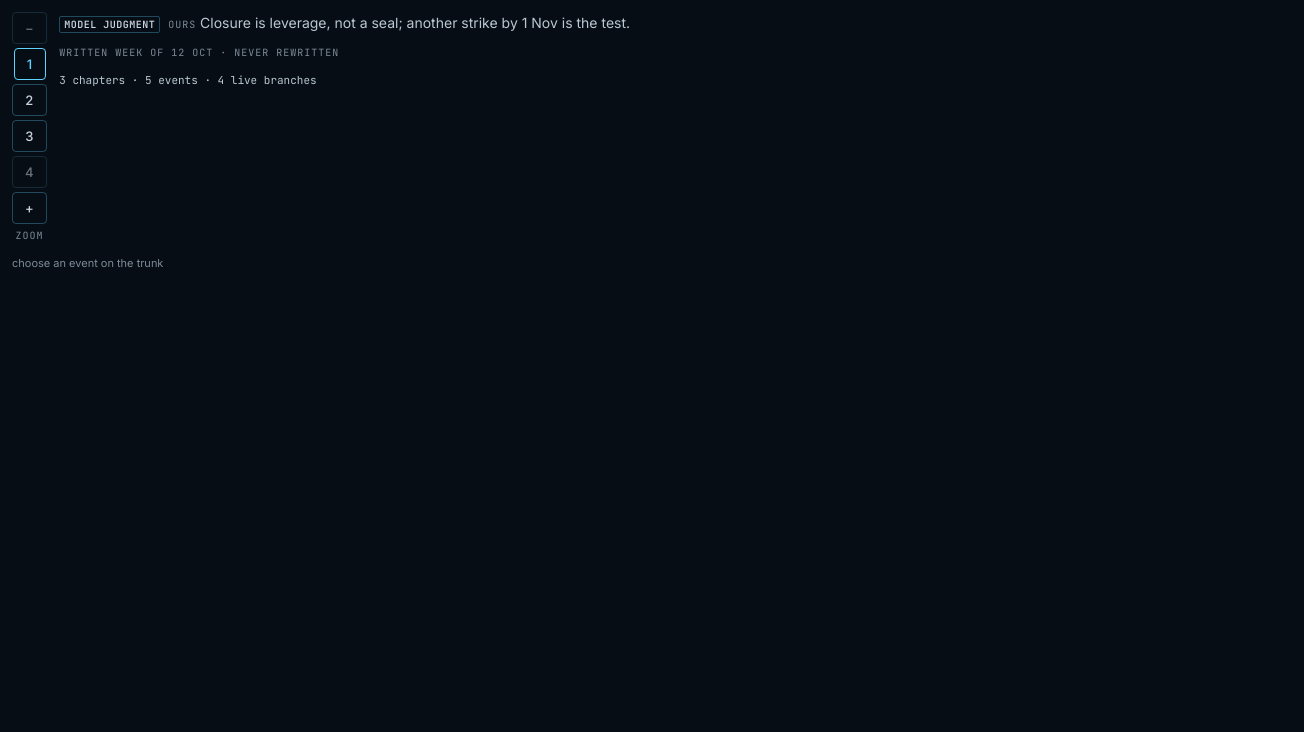
Test: story tree zoom ladder › older history folds into one button that unfolds the drawing
Click the button "3": {"x": 30, "y": 136} [12,120,47,152]
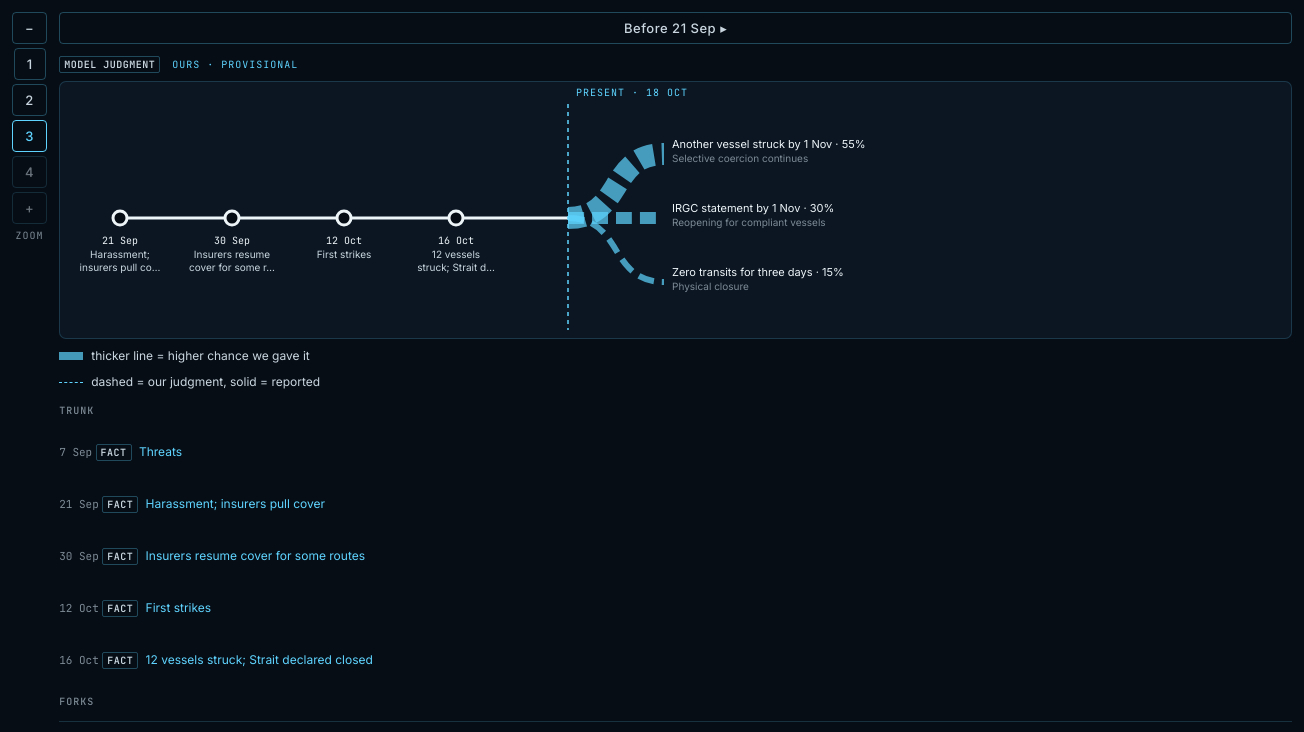
Click the button "Before 21 Sep ▸": {"x": 676, "y": 28} [59,12,1292,44]
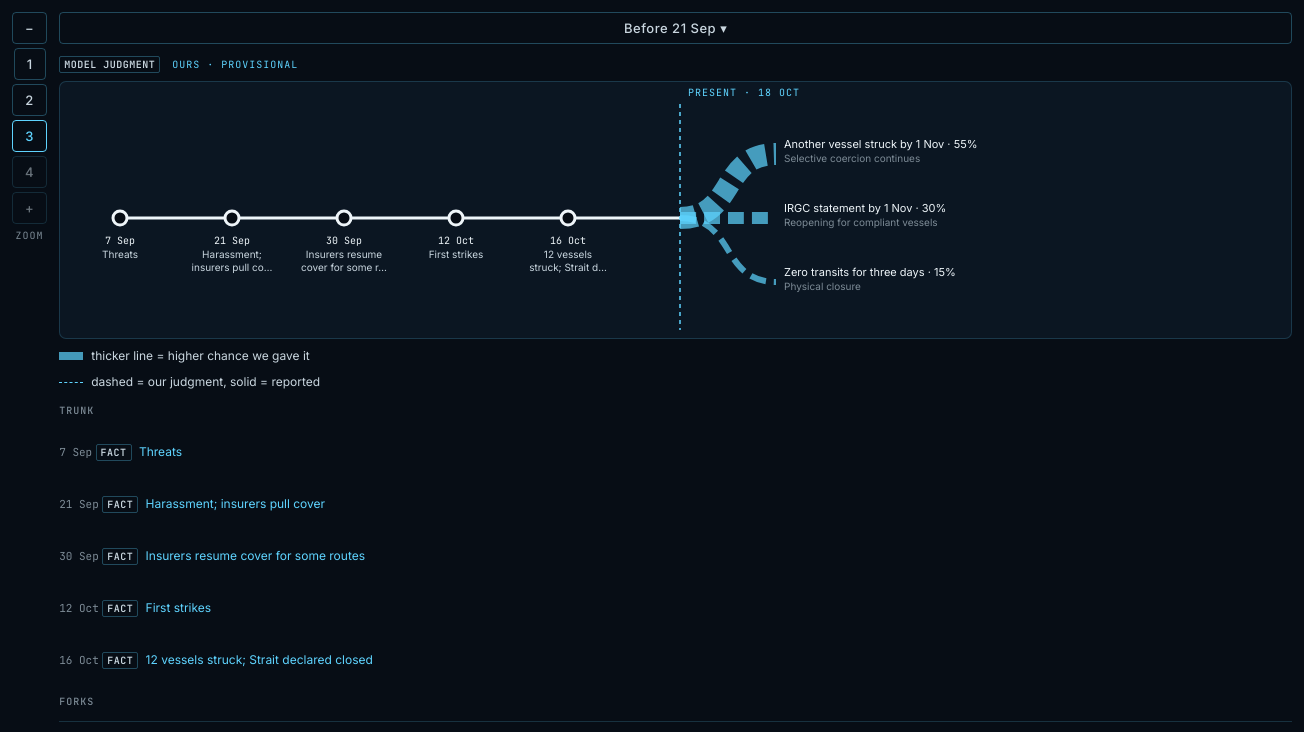
Expected: the button "Before 21 Sep ▾" is expanded, [59,12,1292,44]
